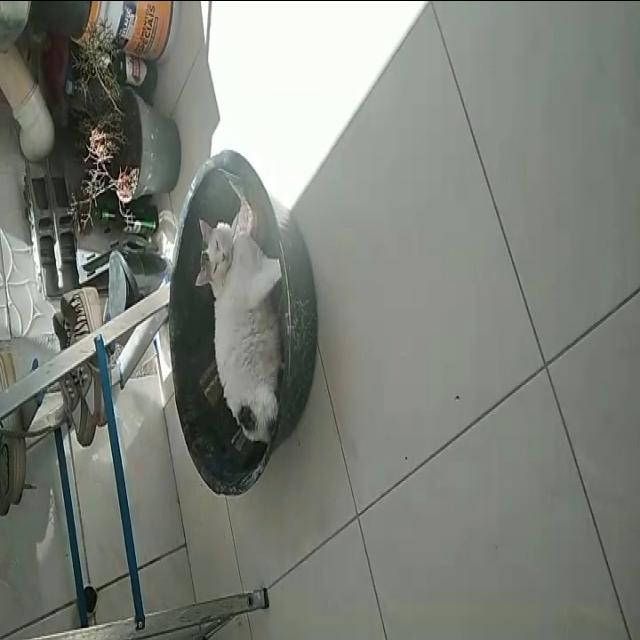Simba: (180, 166, 302, 426)
